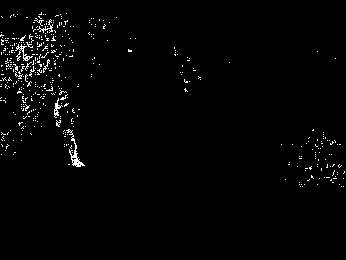person: (50, 89, 92, 171)
